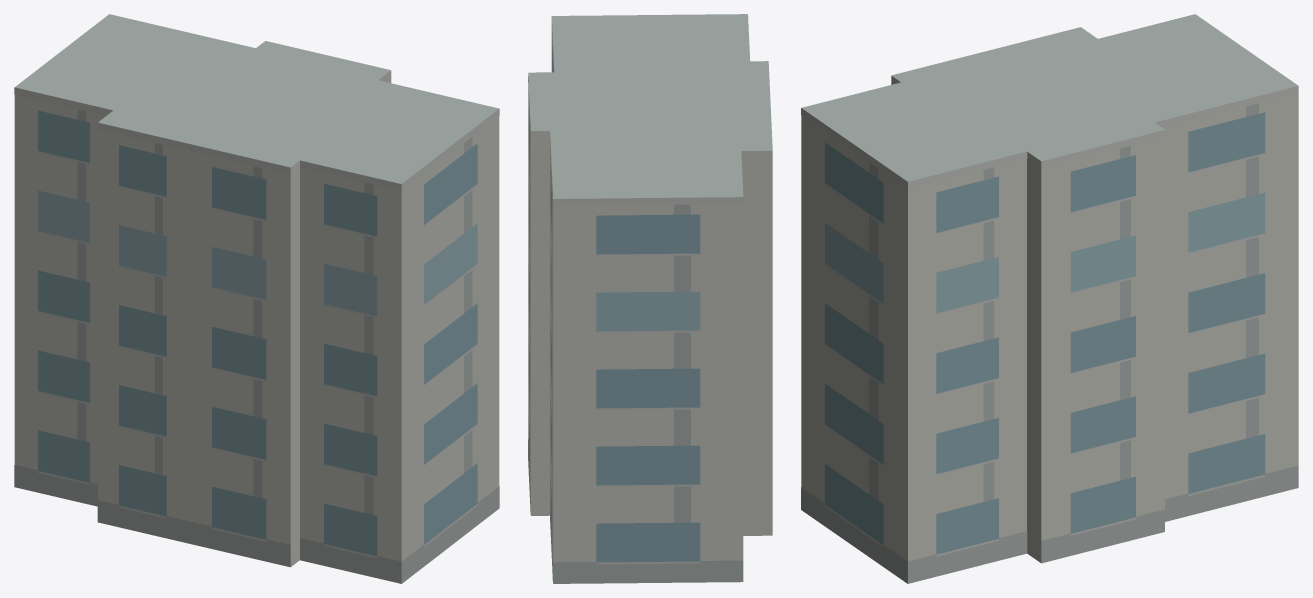
Rendered from survey-upis-32528228.glb.
3 views of the same model, side by side, from view 1: azimuth 30°, elevation 25°; view 2: azimuth 150°, elevation 25°; view 3: azimuth 270°, elevation 25° (orthographic). The views are drawn at different scales.
Visible parts, largest first — view 1: survey-upis-32528228.tmp; view 2: survey-upis-32528228.tmp; view 3: survey-upis-32528228.tmp.
Boxes of the visible parts, box(x1,y1,x2,y2) form: survey-upis-32528228.tmp: box(14, 14, 499, 583); survey-upis-32528228.tmp: box(528, 14, 772, 583); survey-upis-32528228.tmp: box(801, 14, 1298, 583).
Bounding box in the file's own units: 11.92 × 13.3 × 14.92.
